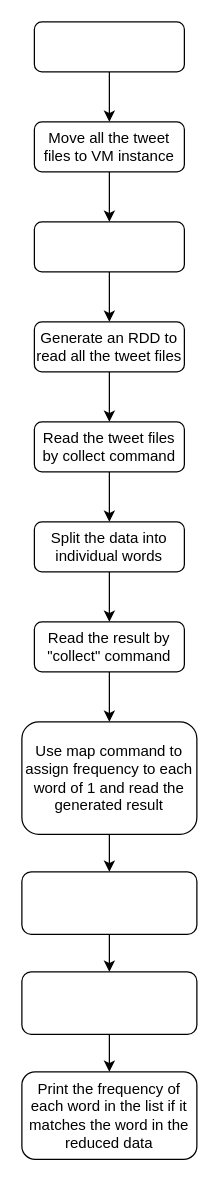
This 219x1181 diagram has some shape labels left out. Each missing label, with the centre of its shape:
Connect to Apache instance: point (108, 46)
Create a list of words with desired count ("flu","cold","snow"): point (109, 1002)
Open spark-shell: point (108, 246)
Reduce the data by reduce command and read it: point (109, 902)
